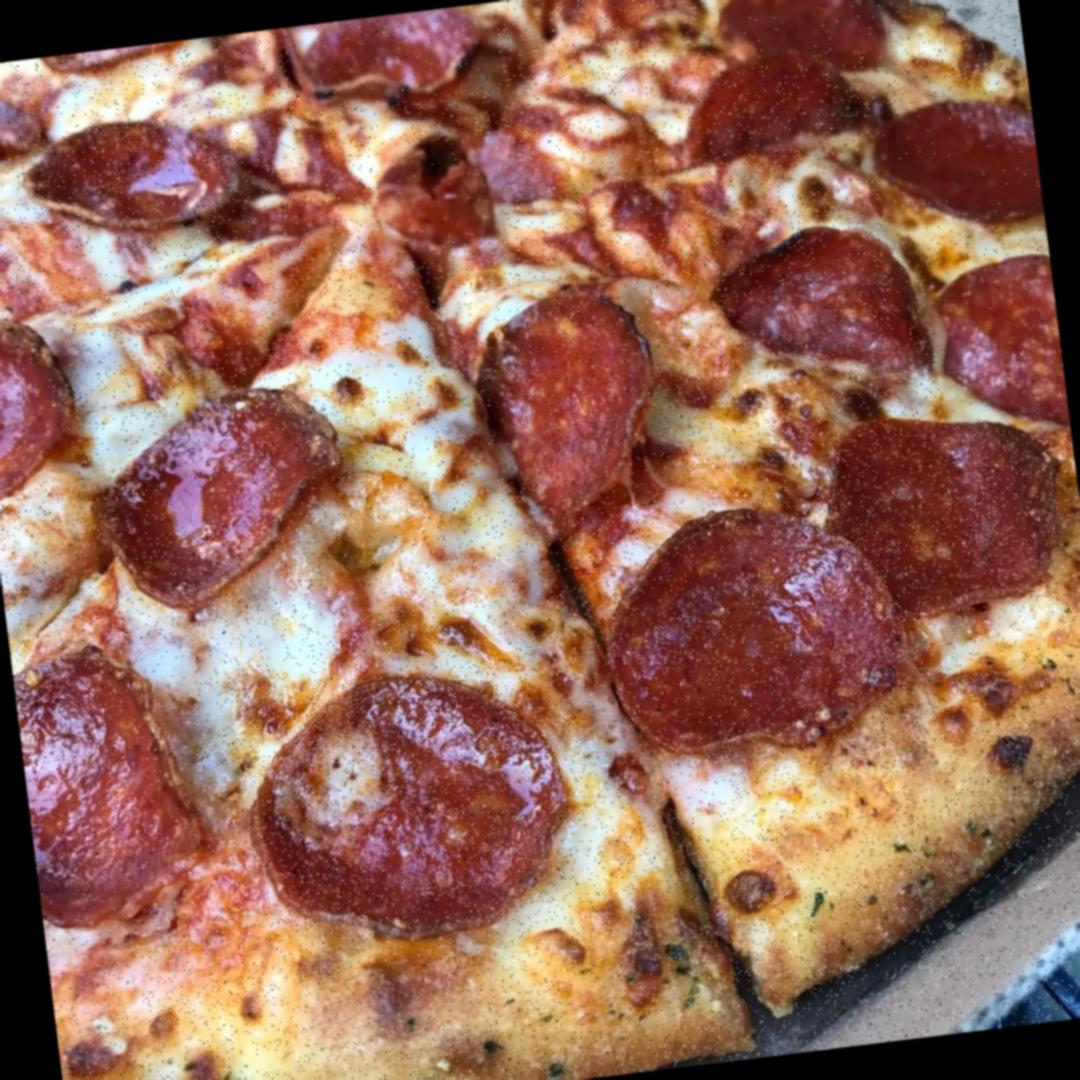Pepperoni: (236, 654, 580, 948), (597, 494, 910, 766), (10, 634, 220, 940), (95, 380, 345, 606), (825, 400, 1068, 614), (462, 273, 662, 512), (714, 212, 939, 404), (18, 108, 250, 235), (926, 250, 1070, 438), (870, 88, 1044, 240), (665, 52, 882, 162), (294, 2, 500, 110), (373, 135, 506, 252), (0, 311, 83, 497), (716, 0, 893, 84), (0, 87, 49, 165)
Pizza: (0, 0, 1080, 1080)
